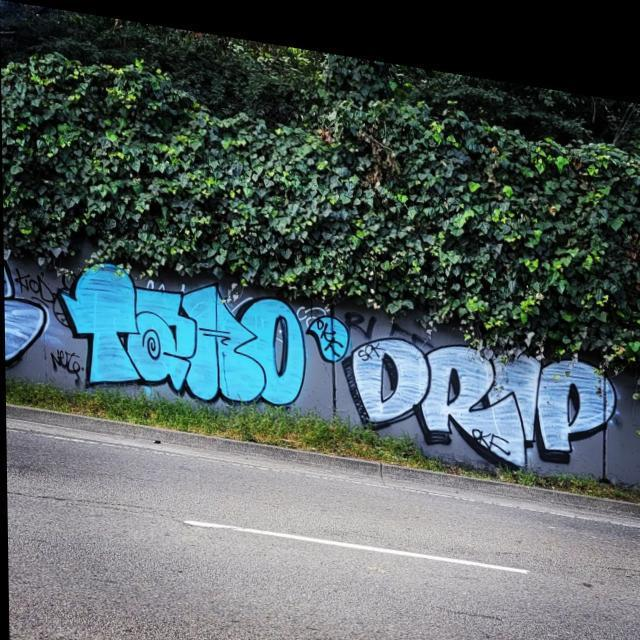-: (44, 246, 346, 416), (344, 303, 628, 466)
